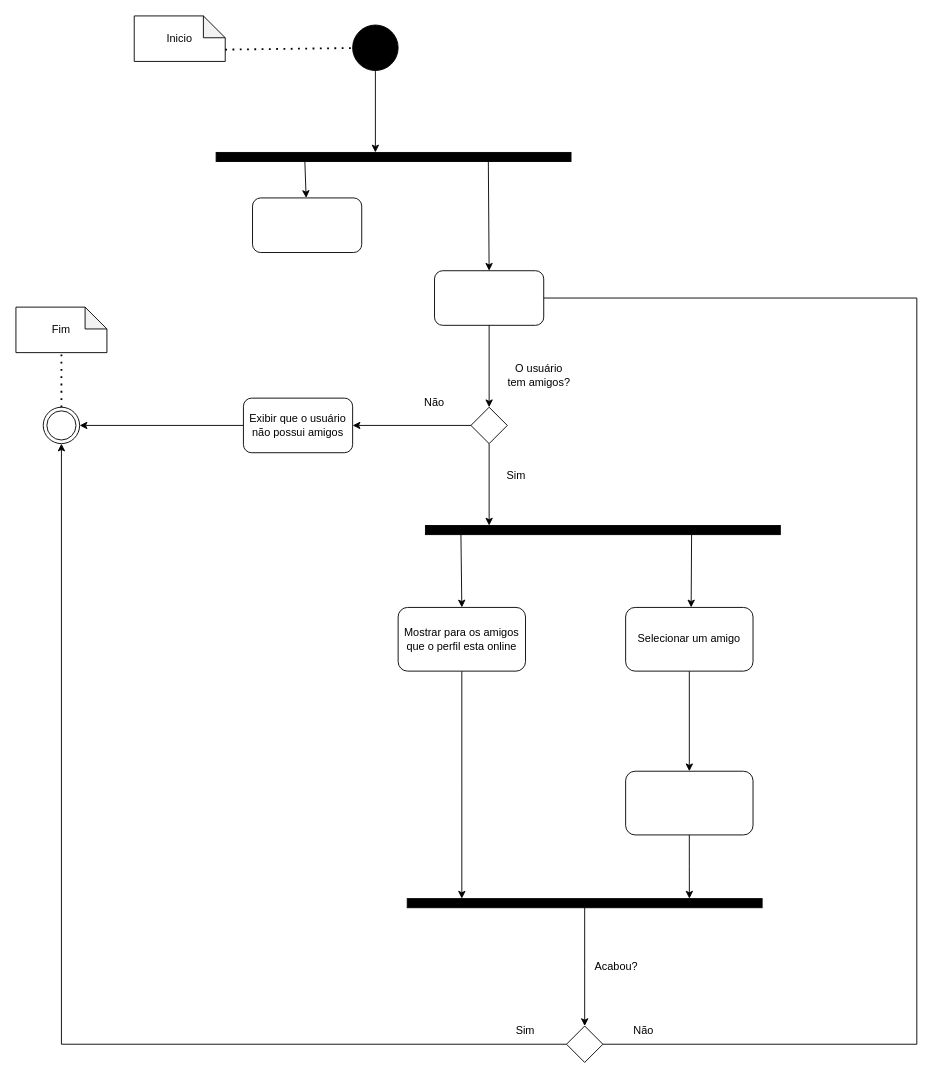
The diagram is 934 pixels wide and 1078 high, and some of its shapes have lost their labels. Here are the shapes that lost their labels. From the top down, the centre of each, then its label:
At (x=307, y=225): "Carregar dados do Usuário".
At (x=489, y=297): "Carregar amigos do Usuário".
At (x=689, y=802): "Abrir um chat de conversas".
